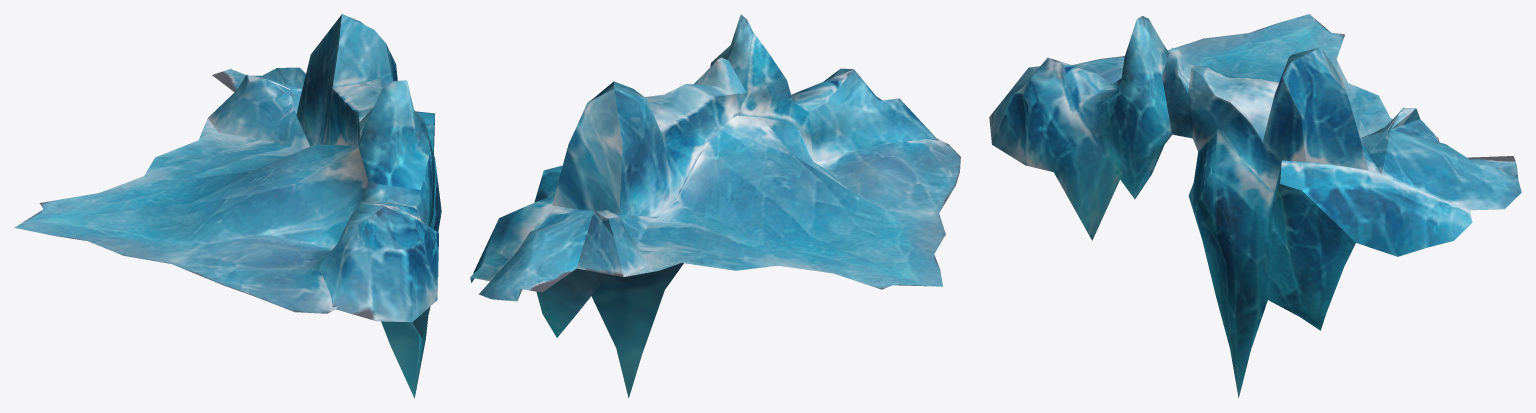
File: 5013_Item_bing_1.FBX
The picture shows the model from 3 angles, left to right: view 1: azimuth 30°, elevation 25°; view 2: azimuth 150°, elevation 25°; view 3: azimuth 270°, elevation 25°; orthographic projection. The views are drawn at different scales.
Parts seen in each view (by area): view 1: 5013_Item_bing_1; view 2: 5013_Item_bing_1; view 3: 5013_Item_bing_1.
Part boxes in pixels (x1,y1,x2,y2): 5013_Item_bing_1: (14,14,441,398); 5013_Item_bing_1: (470,14,960,398); 5013_Item_bing_1: (989,14,1521,397).
Size of the model in its own units: 1760 by 1477 by 2029.
